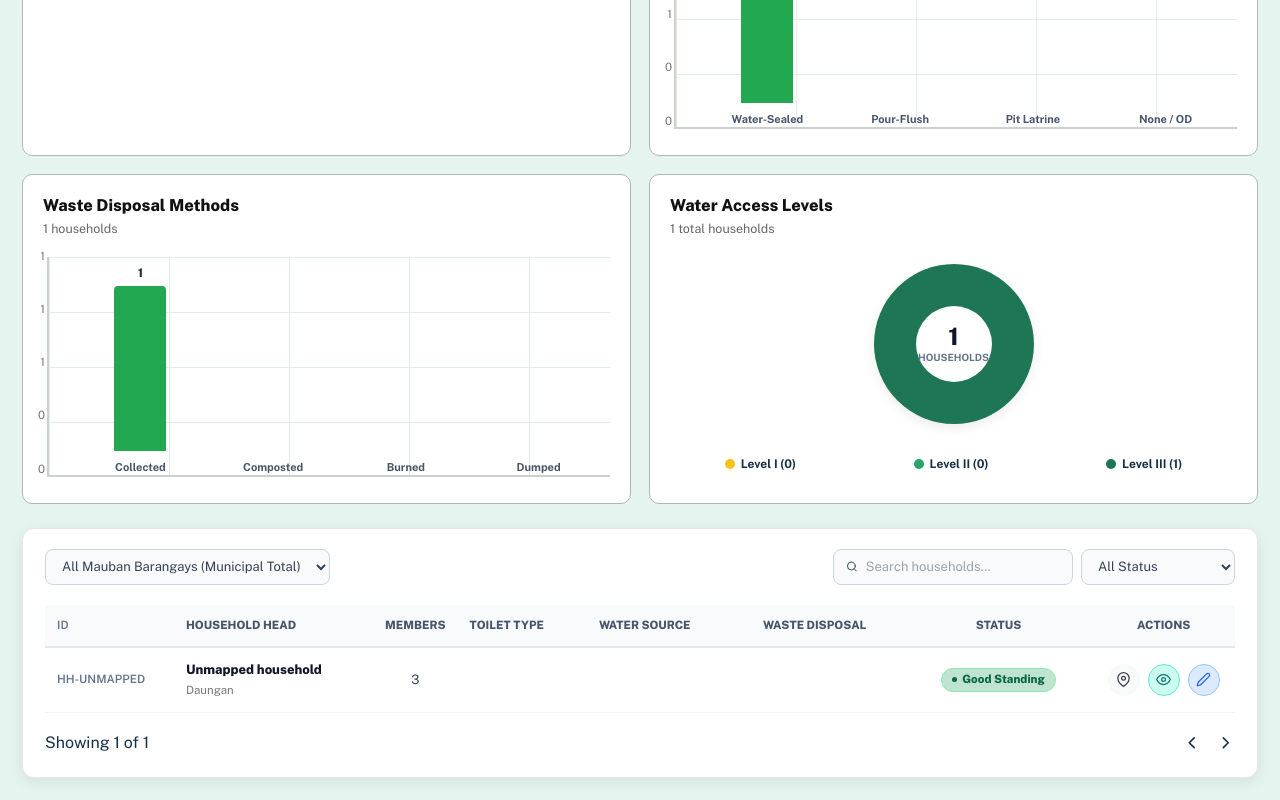
Scenario: unmapped household remains visible and editable in Household Records
The width and height of the screenshot is (1280, 800).
(page scrolled)
Expected: the text "Unmapped household" is shown, [186,662,322,677]
Click the button titled "Edit Household Record" at (1204, 680), box [1188,664,1220,696]
(page scrolled)
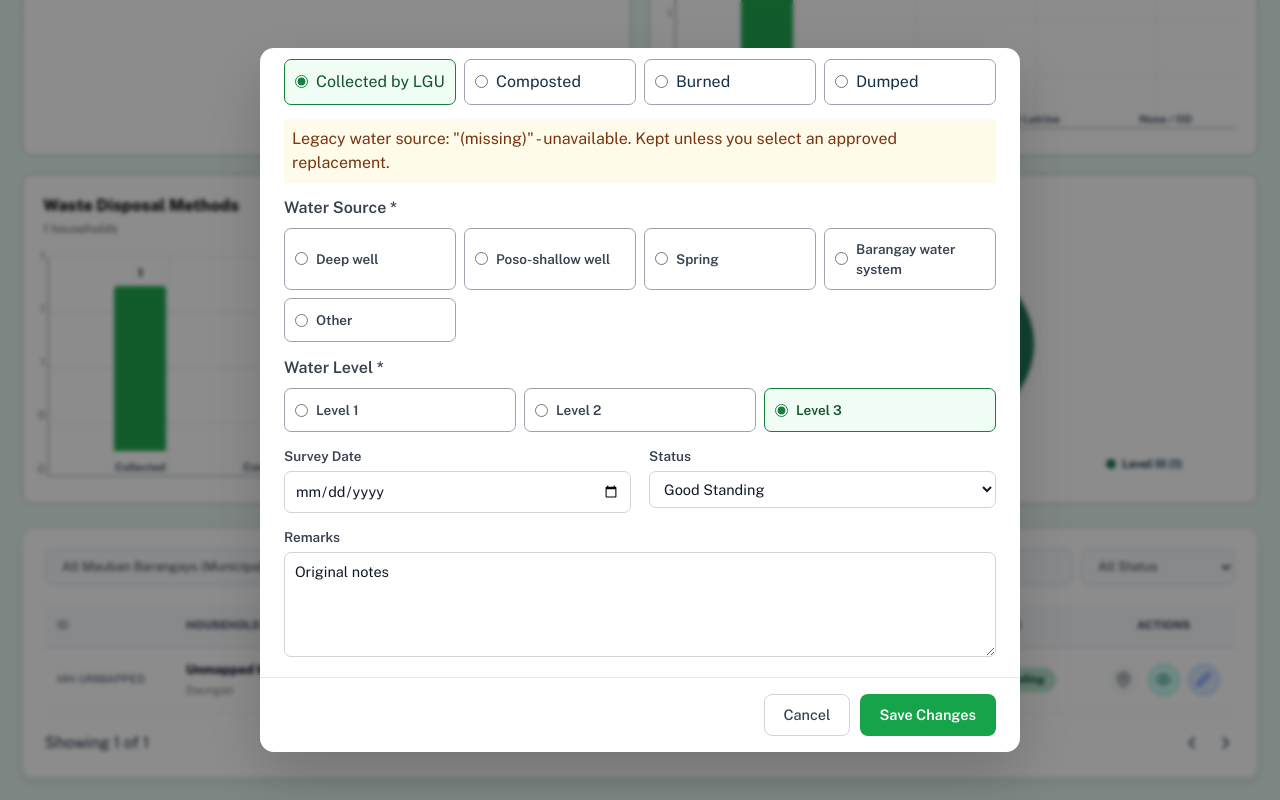
Replace the text in the text box with placeholder "Additional notes..." with "Updated notes" at (640, 605), box [284,552,996,657]
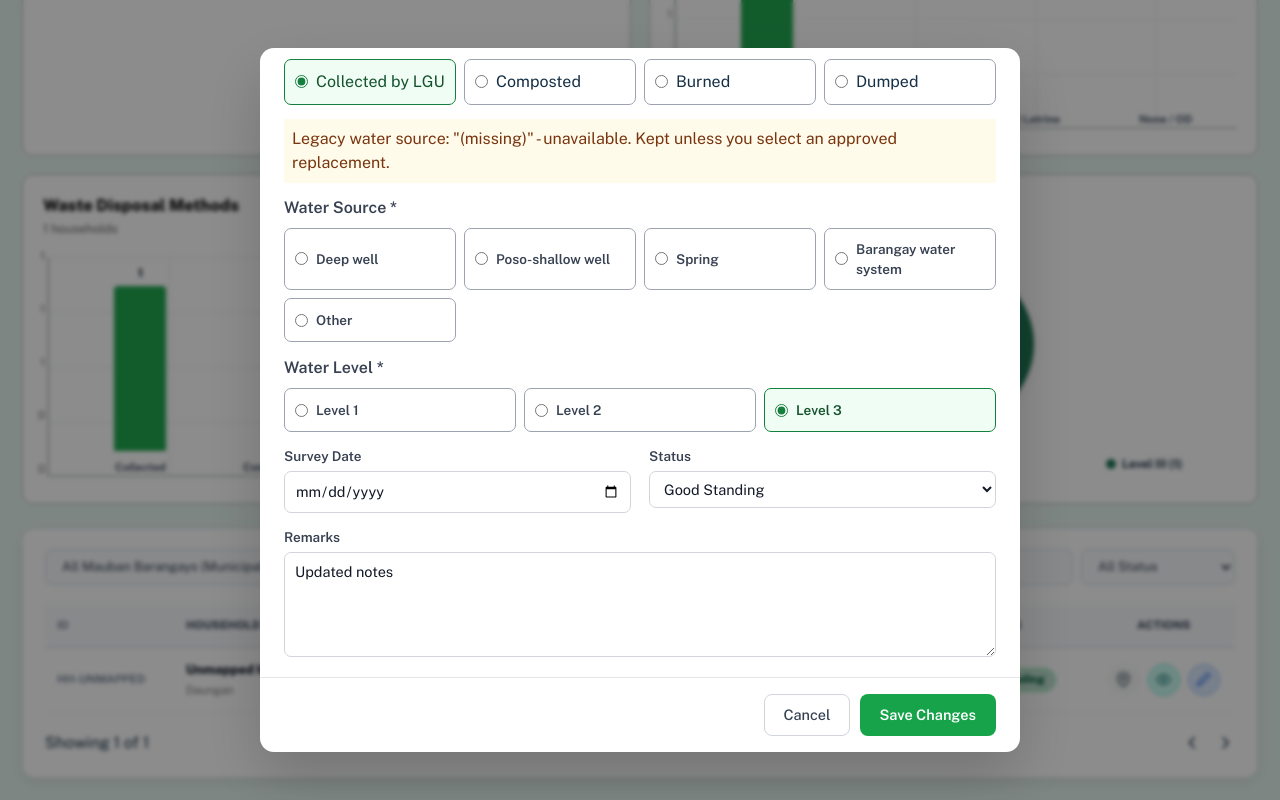
Click the button "Save Changes" at (928, 715), box [860,694,996,736]
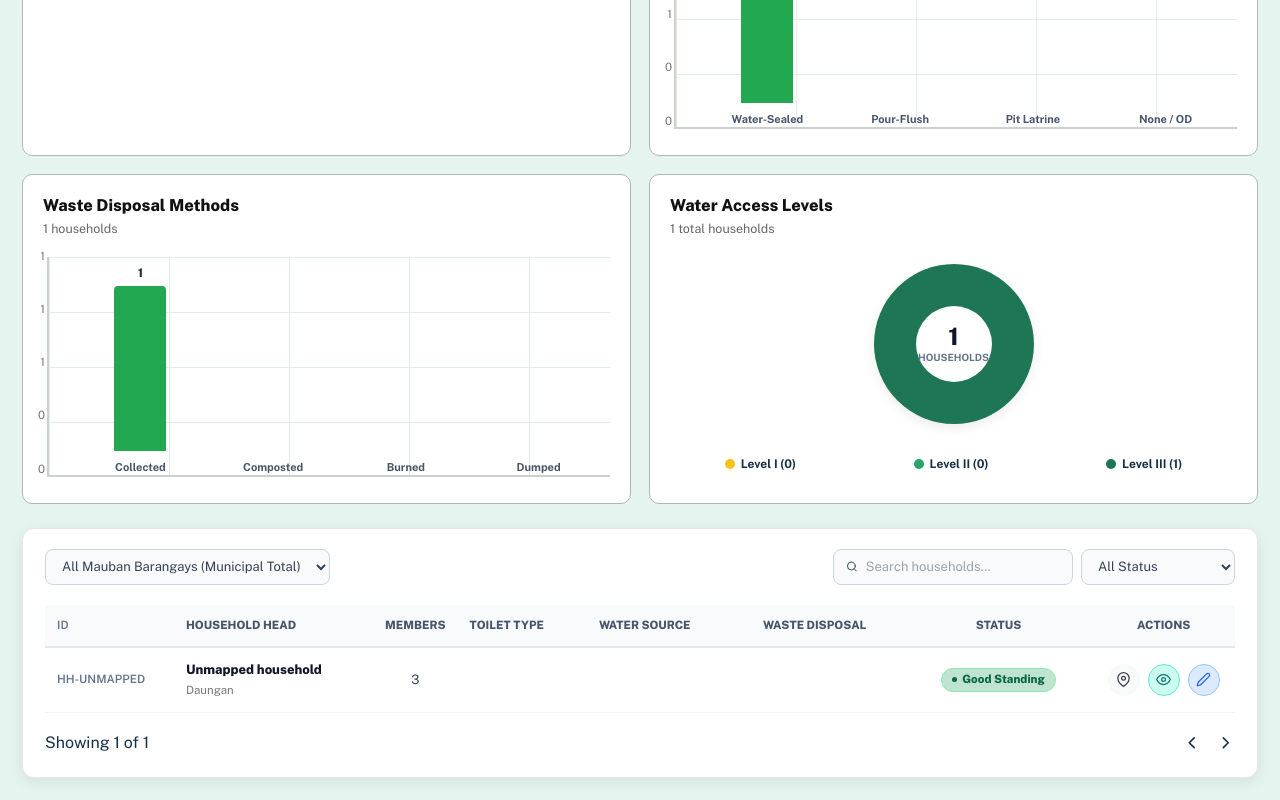
Now the button "Save Changes" is gone
